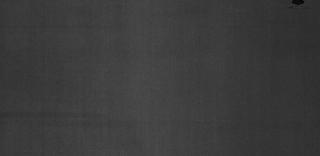punching hole: (289, 1, 309, 9)
